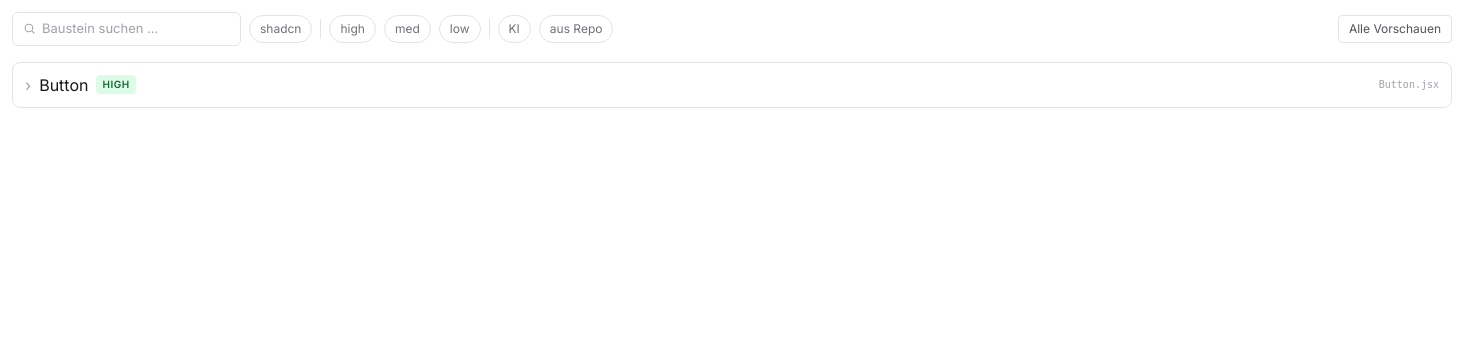
Test case: LibraryObjectList — Preview-First (kind atom/molecule/organism teilen sich eine Zeilen-Liste) › kind=atom: Code-Toggle (nach Aufklappen) zeigt Code inkl. Kopieren/Herunterladen und verbirgt wieder
Click the text "Button" at (64, 84), box left=39, top=72, right=88, bottom=96
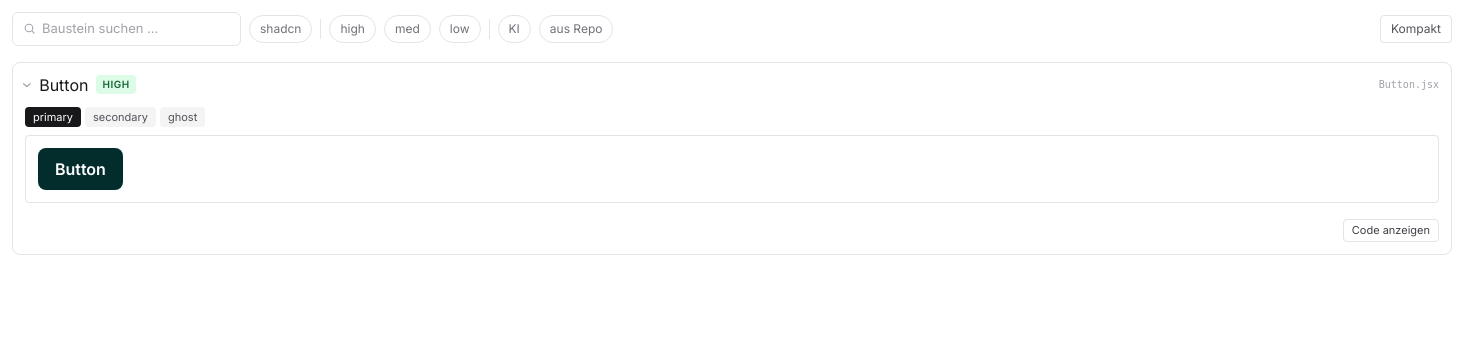
Click the button "Code anzeigen" at (1391, 230), box left=1343, top=219, right=1439, bottom=242
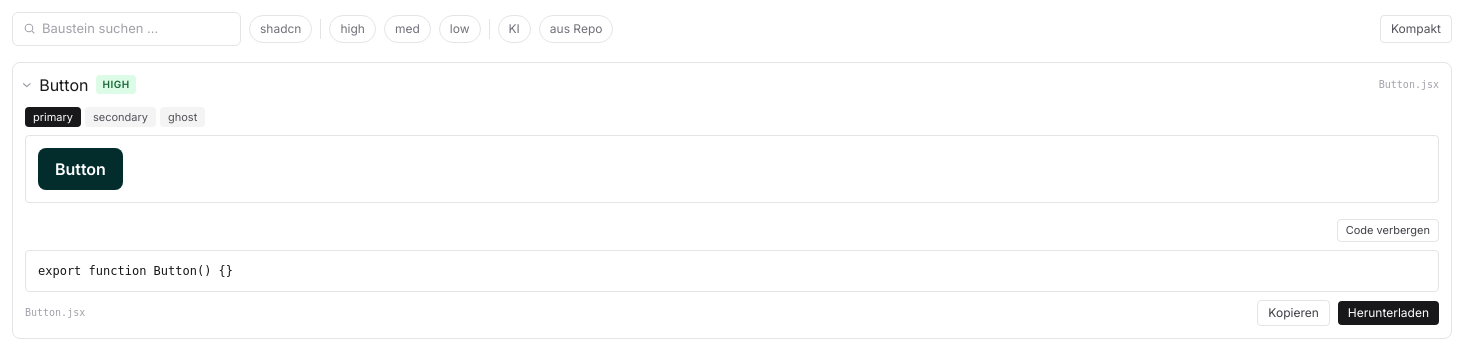
Expected: the text "export function Button() {}" is shown, left=25, top=250, right=1439, bottom=292
Expected: the button "Kopieren" is shown, left=1257, top=300, right=1330, bottom=326
Expected: the button "Herunterladen" is shown, left=1338, top=300, right=1439, bottom=324
Click the button "Code verbergen" at (1388, 230), box left=1337, top=219, right=1439, bottom=242
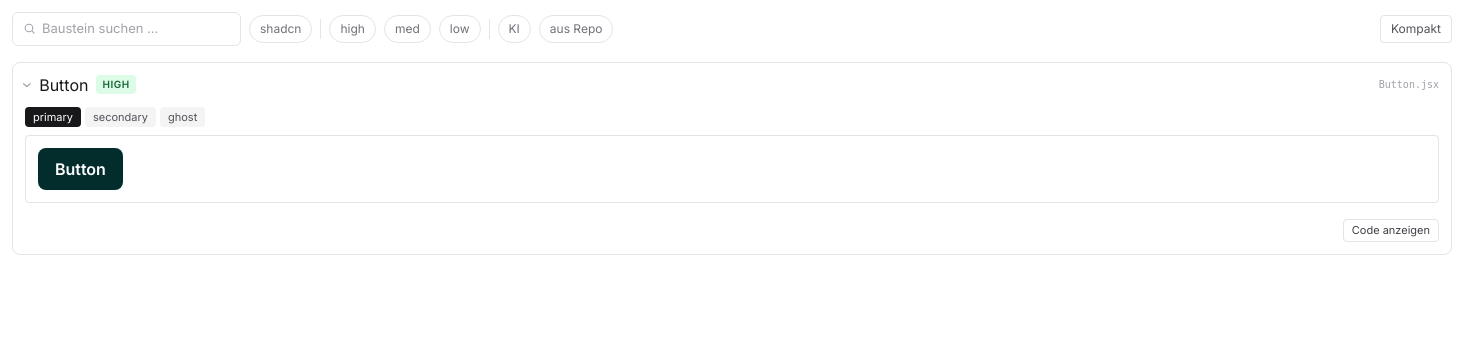
Expected: the text "export function Button() {}" is gone
